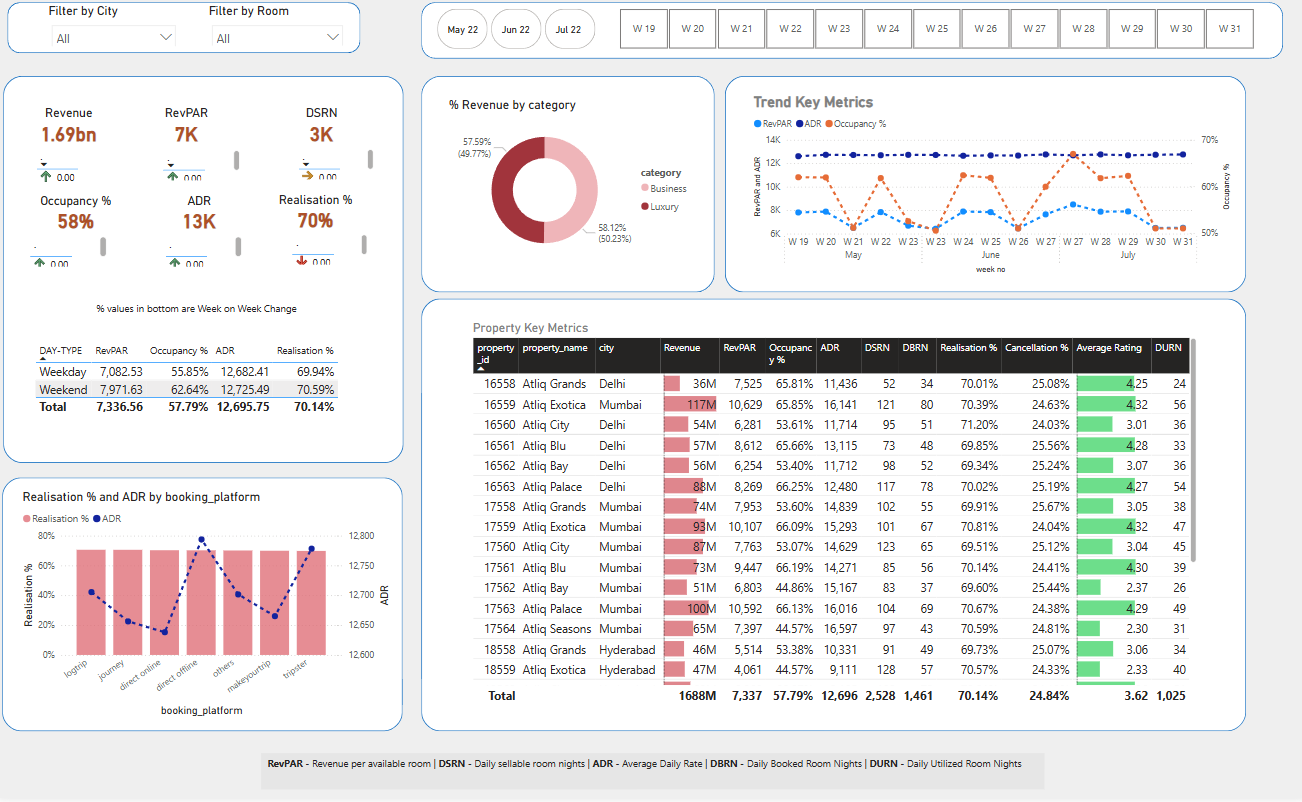

Layout of this report page (visuals, bound fields, positions):
{"tool":"powerbi","page":{"name":"HOME","canvas":[1800,1100],"ordinal":0},"visuals":[{"type":"shape","box":[582.5,7.5,1183.8,77.5],"z":0,"group":"g7"},{"type":"shape","box":[1000,108.6,715.7,297.1],"z":0,"group":"g5"},{"type":"shape","box":[7.1,660,550,348.6],"z":0},{"type":"slicer","title":"Filter by City","fields":{"Values":["dim_Hotels.city"]},"box":[66.2,10,190.2,57.5],"z":1000,"group":"g2"},{"type":"shape","box":[582.9,108.6,402.9,297.1],"z":1000,"group":"g3"},{"type":"shape","box":[582.9,414.3,1132.9,594.3],"z":1000},{"type":"shape","box":[13.8,7.5,485,70],"z":2000},{"type":"slicer","title":"Filter by Room","fields":{"Values":["dim_room.room_class"]},"box":[286.8,10,199.4,56.5],"z":2000,"group":"g2"},{"type":"shape","box":[8.7,108.6,549.8,531.4],"z":2000,"group":"g4"},{"type":"group","id":"g1","title":"Group 1","box":[599.6,10,1149.5,67.5],"z":3000,"group":"g7"},{"type":"advancedSlicerVisual","title":"Month","fields":{"Values":["dim_date.mmm yy"]},"box":[599.6,11.2,229.4,65],"z":3000,"group":"g1"},{"type":"tableEx","title":"Property Key Metrics","fields":{"Values":["dim_Hotels.property_id","dim_Hotels.property_name","dim_Hotels.city","key_measures.Revenue","key_measures.RevPAR","key_measures.Occupancy %","key_measures.ADR","key_measures.DSRN","key_measures.DBRN","key_measures.Realisation %","key_measures.Cancellation %","key_measures.Average Rating"]},"box":[648.6,444.3,1004.3,532.9],"z":3000},{"type":"group","id":"g2","title":"Group 8","box":[66.2,10,420,57.5],"z":4000},{"type":"slicer","fields":{"Values":["dim_date.week no"]},"box":[829.1,10,920.1,67.5],"z":4000,"group":"g1"},{"type":"donutChart","title":" % Revenue by category","fields":{"Category":["dim_Hotels.category"],"Y":["key_measures.Occupancy %"]},"box":[616,138.3,347.6,234.3],"z":4000,"group":"g3"},{"type":"card","title":"Revenue","fields":{"Values":["key_measures.Revenue"]},"box":[0,150.4,197.1,54.6],"z":4000,"group":"g6"},{"type":"tableEx","title":"Revenue change %","fields":{"Values":["key_measures.Revenue WoW change %"]},"box":[47.9,205,115.4,58.8],"z":5000,"group":"g6"},{"type":"shape","box":[53.8,467.5,482.5,18.8],"z":5000},{"type":"group","id":"g3","title":"Group 3","box":[582.9,108.6,402.9,297.1],"z":6000},{"type":"group","id":"g4","title":"Group 4","box":[0,108.6,558.6,531.4],"z":7000},{"type":"lineChart","title":"Trend Key Metrics","fields":{"Category":["dim_date.mmm yy.Variation.Date Hierarchy.Month","dim_date.week no"],"Y":["key_measures.RevPAR","key_measures.ADR"],"Y2":["key_measures.Occupancy %"]},"box":[1034.6,131.1,664.7,253.5],"z":7000,"group":"g5"},{"type":"card","title":"RevPAR","fields":{"Values":["key_measures.RevPAR"]},"box":[163.3,150.4,194.3,54.6],"z":7000,"group":"g6"},{"type":"group","id":"g5","title":"Group 5","box":[1000,108.6,715.7,297.1],"z":8000},{"type":"group","id":"g6","title":"Group 2","box":[0,150.4,544.8,226.1],"z":8000,"group":"g4"},{"type":"card","title":"DSRN","fields":{"Values":["key_measures.DSRN"]},"box":[347.7,150.4,197.1,54.6],"z":8000,"group":"g6"},{"type":"group","id":"g7","title":"Group 6","box":[582.5,7.5,1183.8,77.5],"z":9000},{"type":"card","title":"Occupancy %","fields":{"Values":["key_measures.Occupancy %"]},"box":[20.2,270.2,176,54.7],"z":10000,"group":"g6"},{"type":"tableEx","fields":{"Values":["dim_date.day_type","key_measures.RevPAR","key_measures.Occupancy %","key_measures.ADR","key_measures.Realisation %"]},"box":[47.5,470.4,446.1,126.6],"z":10000,"group":"g4"},{"type":"lineStackedColumnComboChart","fields":{"Category":["fact_bookings.booking_platform"],"Y":["key_measures.Realisation %"],"Y2":["key_measures.ADR"]},"box":[30,677.1,514.3,315.7],"z":10000},{"type":"textbox","box":[362.9,1038.6,1075.7,50],"z":10001},{"type":"card","title":"ADR","fields":{"Values":["key_measures.ADR"]},"box":[198.9,270.6,157.7,54.7],"z":11000,"group":"g6"},{"type":"textbox","box":[131.2,412.8,298.7,39.6],"z":11000,"group":"g4"},{"type":"card","title":"Realisation %","fields":{"Values":["key_measures.Realisation %"]},"box":[332,268.4,212.1,54.7],"z":12000,"group":"g6"},{"type":"tableEx","title":"Revenue change %","fields":{"Values":["key_measures.Revpar WoW change %"]},"box":[222.8,206.5,115.7,51.3],"z":13000,"group":"g6"},{"type":"tableEx","title":"Revenue change %","fields":{"Values":["key_measures.DSRN WoW change %"]},"box":[408.6,204.3,113.9,51.3],"z":14000,"group":"g6"},{"type":"tableEx","title":"Revenue change %","fields":{"Values":["key_measures.Occupancy WoW change %"]},"box":[39.6,325.4,115.4,51.1],"z":15000,"group":"g6"},{"type":"tableEx","title":"Revenue change %","fields":{"Values":["key_measures.ADR WoW change %"]},"box":[225.5,325.4,115.4,51.1],"z":16000,"group":"g6"},{"type":"tableEx","title":"Revenue change %","fields":{"Values":["key_measures.Realisation WoW change %"]},"box":[400.4,321.9,113.9,51.3],"z":17000,"group":"g6"}]}

Visuals, with their boxes in screenshot pixels (x1, y1, x2, y2), scaled from the page's 1800x1100 canvas onto the 1302x802 screenshot:
shape: {"x1": 421, "y1": 5, "x2": 1278, "y2": 62}
shape: {"x1": 723, "y1": 79, "x2": 1241, "y2": 296}
shape: {"x1": 5, "y1": 481, "x2": 403, "y2": 735}
"Filter by City" slicer: {"x1": 48, "y1": 7, "x2": 185, "y2": 49}
shape: {"x1": 422, "y1": 79, "x2": 713, "y2": 296}
shape: {"x1": 422, "y1": 302, "x2": 1241, "y2": 735}
shape: {"x1": 10, "y1": 5, "x2": 361, "y2": 57}
"Filter by Room" slicer: {"x1": 207, "y1": 7, "x2": 352, "y2": 48}
shape: {"x1": 6, "y1": 79, "x2": 404, "y2": 467}
"Group 1" group: {"x1": 434, "y1": 7, "x2": 1265, "y2": 57}
"Month" advancedSlicerVisual: {"x1": 434, "y1": 8, "x2": 600, "y2": 56}
"Property Key Metrics" tableEx: {"x1": 469, "y1": 324, "x2": 1196, "y2": 712}
"Group 8" group: {"x1": 48, "y1": 7, "x2": 352, "y2": 49}
slicer - dim_date.week no: {"x1": 600, "y1": 7, "x2": 1265, "y2": 57}
" % Revenue by category" donutChart: {"x1": 446, "y1": 101, "x2": 697, "y2": 272}
"Revenue" card: {"x1": 0, "y1": 110, "x2": 143, "y2": 149}
"Revenue change %" tableEx: {"x1": 35, "y1": 149, "x2": 118, "y2": 192}
shape: {"x1": 39, "y1": 341, "x2": 388, "y2": 355}
"Group 3" group: {"x1": 422, "y1": 79, "x2": 713, "y2": 296}
"Group 4" group: {"x1": 0, "y1": 79, "x2": 404, "y2": 467}
"Trend Key Metrics" lineChart: {"x1": 748, "y1": 96, "x2": 1229, "y2": 280}
"RevPAR" card: {"x1": 118, "y1": 110, "x2": 259, "y2": 149}
"Group 5" group: {"x1": 723, "y1": 79, "x2": 1241, "y2": 296}
"Group 2" group: {"x1": 0, "y1": 110, "x2": 394, "y2": 275}
"DSRN" card: {"x1": 252, "y1": 110, "x2": 394, "y2": 149}
"Group 6" group: {"x1": 421, "y1": 5, "x2": 1278, "y2": 62}
"Occupancy %" card: {"x1": 15, "y1": 197, "x2": 142, "y2": 237}
tableEx - dim_date.day_type x key_measures.RevPAR: {"x1": 34, "y1": 343, "x2": 357, "y2": 435}
lineStackedColumnComboChart - fact_bookings.booking_platform x key_measures.Realisation %: {"x1": 22, "y1": 494, "x2": 394, "y2": 724}
textbox: {"x1": 262, "y1": 757, "x2": 1041, "y2": 794}
"ADR" card: {"x1": 144, "y1": 197, "x2": 258, "y2": 237}
textbox: {"x1": 95, "y1": 301, "x2": 311, "y2": 330}
"Realisation %" card: {"x1": 240, "y1": 196, "x2": 394, "y2": 236}
"Revenue change %" tableEx: {"x1": 161, "y1": 151, "x2": 245, "y2": 188}
"Revenue change %" tableEx: {"x1": 296, "y1": 149, "x2": 378, "y2": 186}
"Revenue change %" tableEx: {"x1": 29, "y1": 237, "x2": 112, "y2": 275}
"Revenue change %" tableEx: {"x1": 163, "y1": 237, "x2": 247, "y2": 275}
"Revenue change %" tableEx: {"x1": 290, "y1": 235, "x2": 372, "y2": 272}
